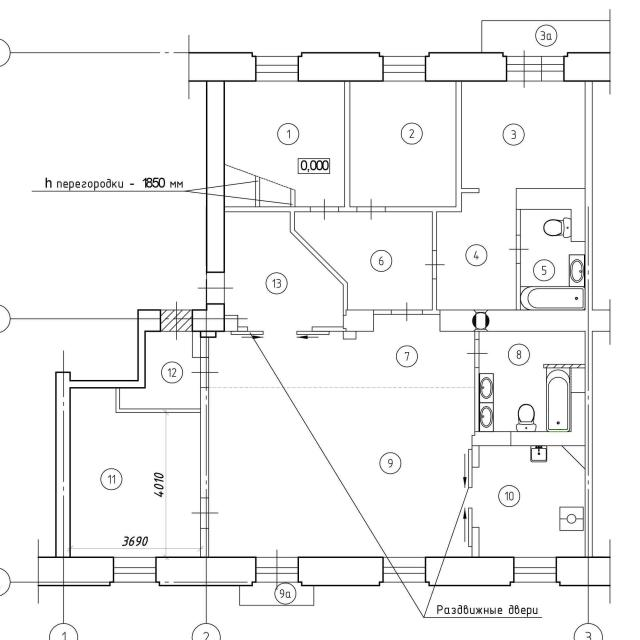Bathrooms: (480, 332, 585, 431), (521, 210, 584, 309)
Corridors: (295, 213, 432, 309), (226, 213, 342, 326), (438, 194, 516, 309), (121, 333, 199, 408), (483, 21, 610, 55), (241, 584, 314, 605)
Doors: (256, 547, 298, 592), (506, 50, 541, 90), (467, 448, 480, 547), (161, 301, 192, 340), (197, 273, 234, 303), (231, 326, 330, 336), (191, 358, 220, 388), (190, 498, 219, 528), (466, 339, 488, 368), (357, 198, 386, 220), (310, 199, 339, 220), (509, 235, 530, 264), (391, 303, 423, 321), (425, 251, 445, 279), (480, 187, 515, 194)
LBwalls: (471, 369, 585, 446), (515, 187, 585, 242), (205, 82, 225, 273), (206, 81, 225, 272), (440, 310, 610, 331), (155, 556, 257, 587), (425, 556, 514, 587), (298, 50, 384, 82), (298, 556, 384, 587), (425, 51, 508, 82), (37, 556, 114, 587), (188, 51, 256, 82), (556, 556, 611, 587), (564, 52, 611, 82), (192, 303, 225, 338), (343, 310, 374, 332), (137, 309, 161, 332)
Offices: (209, 315, 474, 557), (72, 389, 200, 556), (226, 82, 344, 206), (463, 82, 584, 188), (352, 83, 455, 206), (480, 447, 583, 555)
Walls: (55, 332, 146, 557), (225, 175, 348, 315), (385, 81, 480, 250), (115, 388, 209, 498), (338, 82, 357, 213), (584, 331, 594, 557), (584, 81, 593, 311), (423, 279, 440, 315), (192, 332, 209, 358), (474, 368, 479, 433), (516, 264, 521, 310), (200, 529, 208, 556), (472, 527, 479, 557), (225, 315, 238, 331), (543, 363, 584, 368), (471, 446, 479, 467), (515, 210, 521, 236), (312, 327, 346, 331), (343, 331, 357, 340), (374, 310, 391, 315), (474, 331, 480, 339), (238, 327, 248, 331)
Windows: (114, 556, 157, 584), (255, 56, 299, 82), (384, 56, 427, 82), (383, 557, 426, 583), (514, 557, 555, 583), (541, 56, 564, 82)
